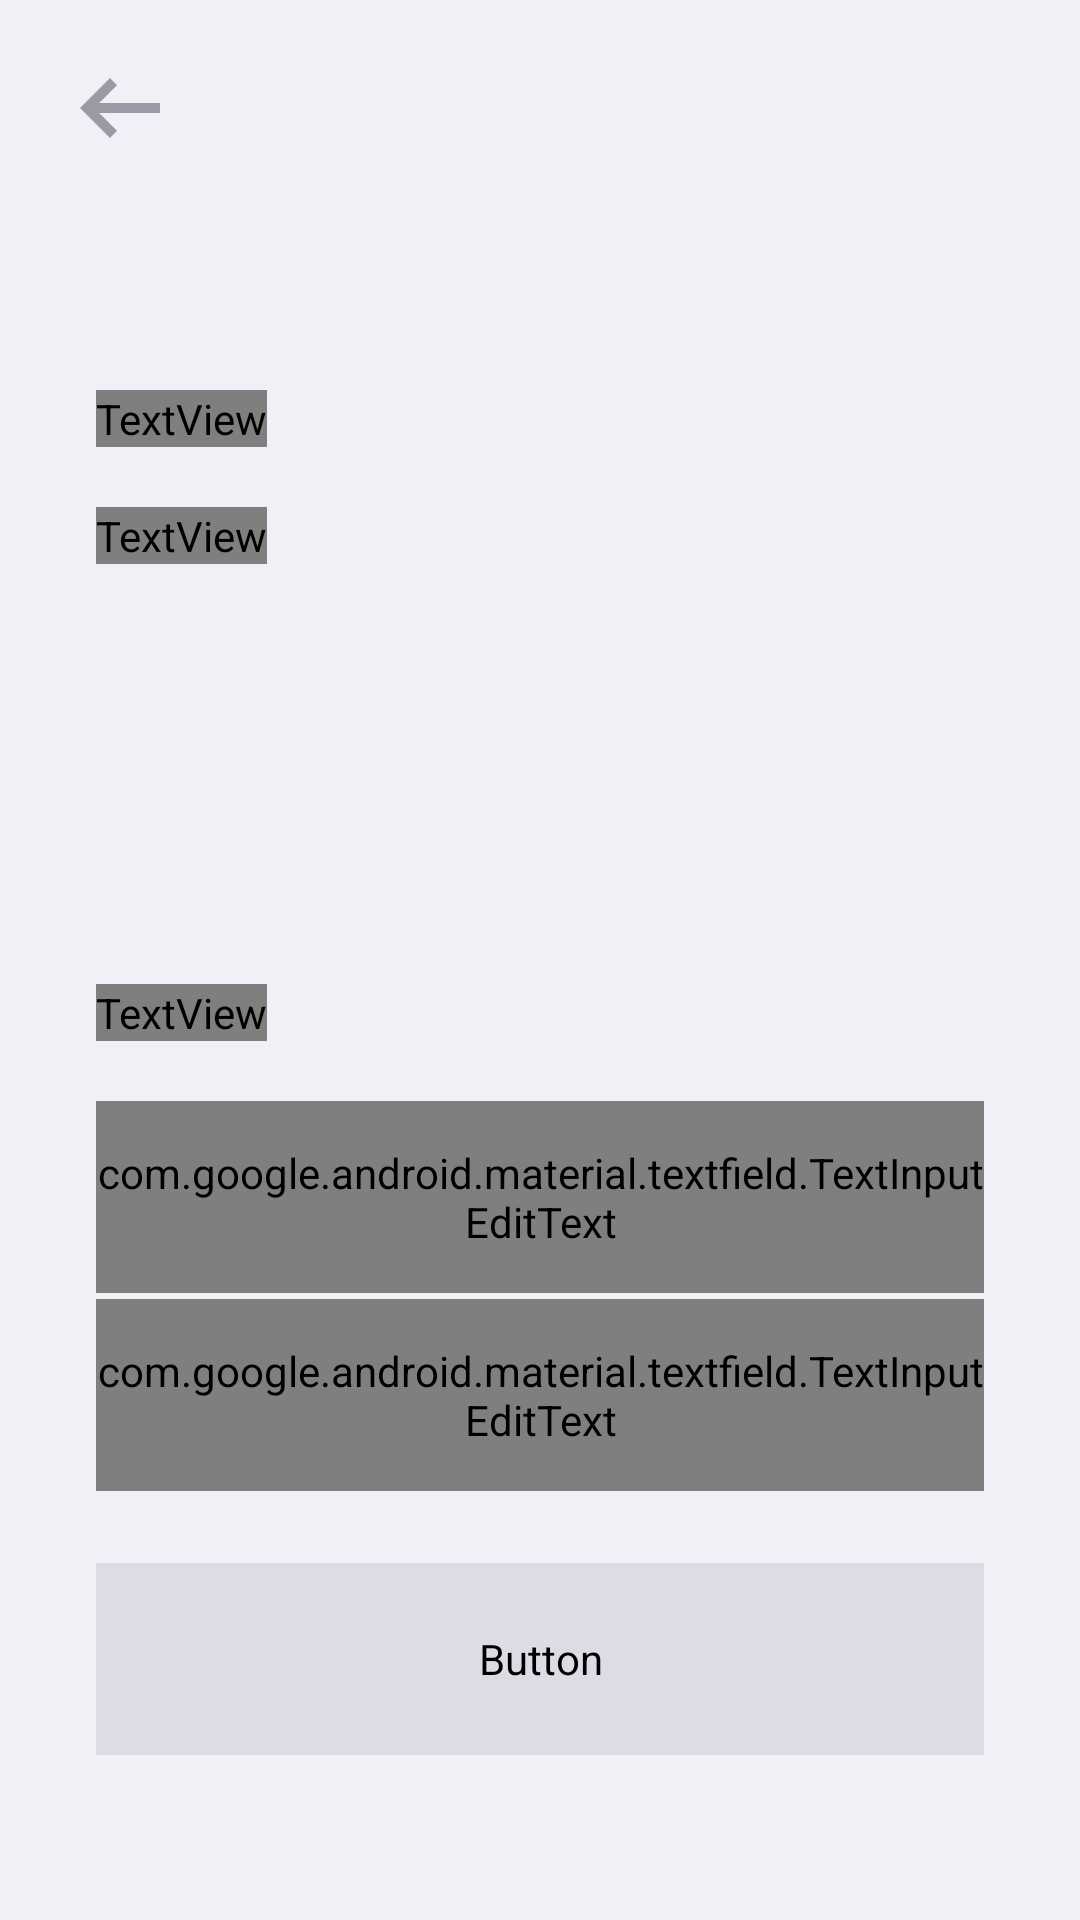

Icons on this 1080px x 1920px Android screen, each with the point to tap as (x=x, y=y):
arrow left: (x=120, y=108)
